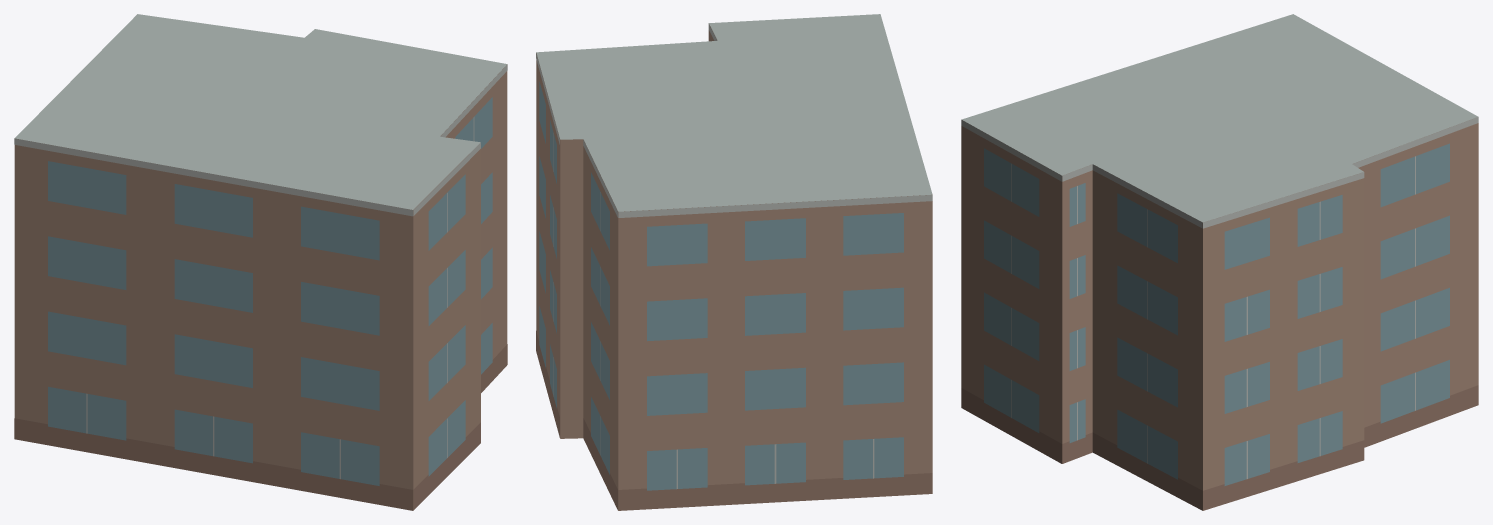
Rendered from survey-upis-32858252.glb.
3 views of the same model, side by side, from view 1: azimuth 30°, elevation 25°; view 2: azimuth 150°, elevation 25°; view 3: azimuth 270°, elevation 25° (orthographic). The views are drawn at different scales.
Visible parts, largest first — view 1: survey-upis-32858252.tmp; view 2: survey-upis-32858252.tmp; view 3: survey-upis-32858252.tmp.
Boxes of the visible parts, x1=… form: survey-upis-32858252.tmp: x1=14, y1=14, x2=507, y2=510; survey-upis-32858252.tmp: x1=536, y1=14, x2=932, y2=510; survey-upis-32858252.tmp: x1=961, y1=14, x2=1478, y2=510.
Size of the model in its own units: 17.69 by 11.4 by 18.53.
